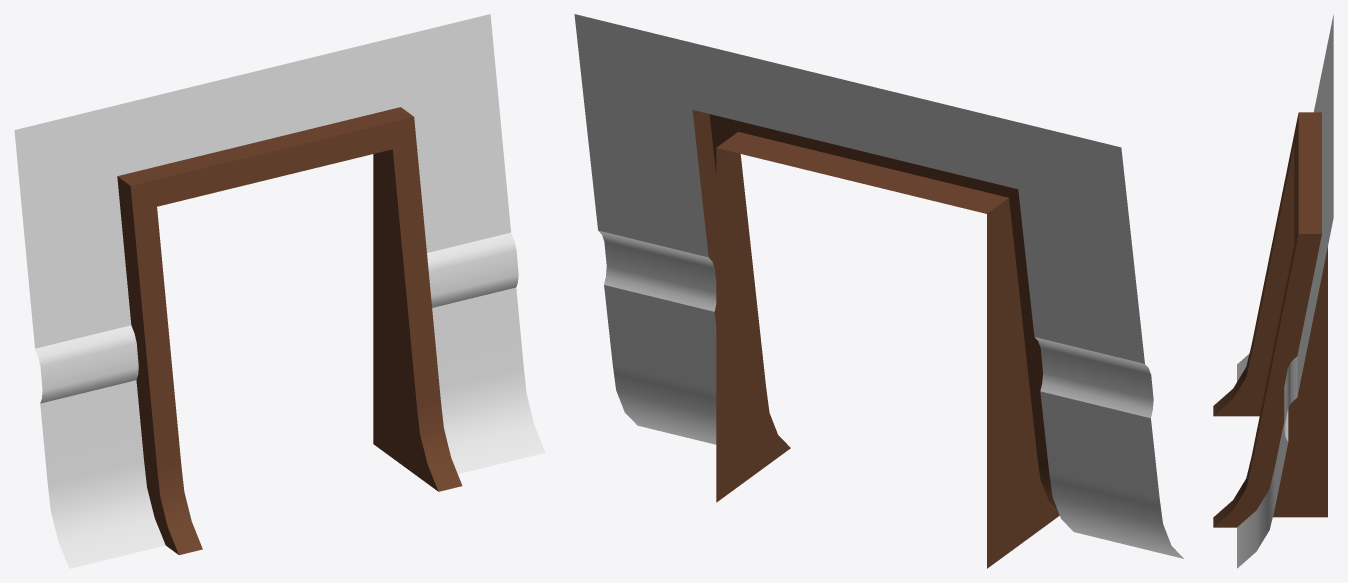
File: SM_DoorTile.fbx
The picture shows the model from 3 angles, left to right: view 1: azimuth 30°, elevation 25°; view 2: azimuth 150°, elevation 25°; view 3: azimuth 270°, elevation 25°; orthographic projection. The views are drawn at different scales.
Parts seen in each view (by area): view 1: DoorTile; view 2: DoorTile; view 3: DoorTile.
Boxes of the visible parts, bbox=[...] form: DoorTile: bbox=[14, 14, 545, 568]; DoorTile: bbox=[574, 14, 1183, 568]; DoorTile: bbox=[1213, 14, 1333, 568].
Bounding box in the file's own units: 100 × 80 × 24.85.
